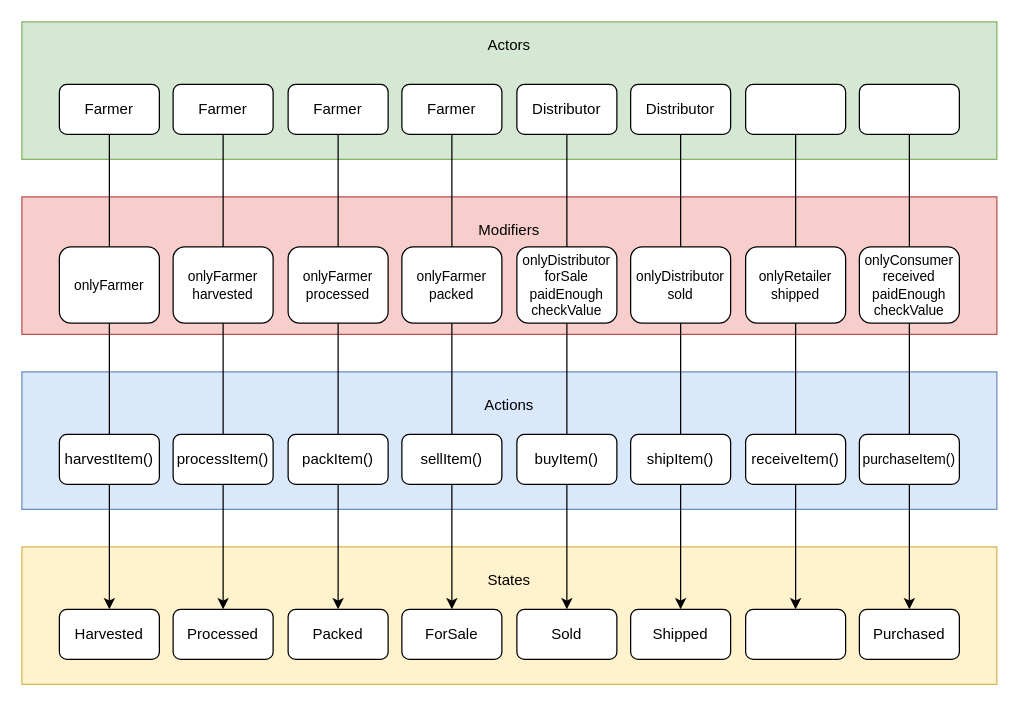
This 1019x706 diagram has some shape labels left out. Here are the shapes that lost their labels. From the top down, the centre of each, then its label:
At [795,108]: "Retailer".
At [908,108]: "Consumer".
At [795,633]: "Received".
